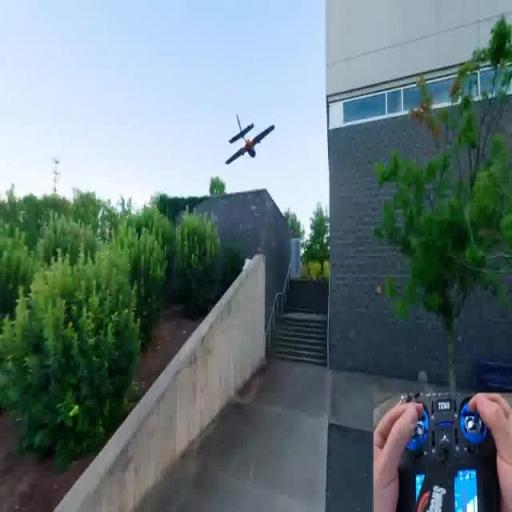uav: (220, 114, 280, 170)
